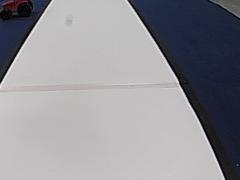Tracktor: (0, 0, 34, 21)
